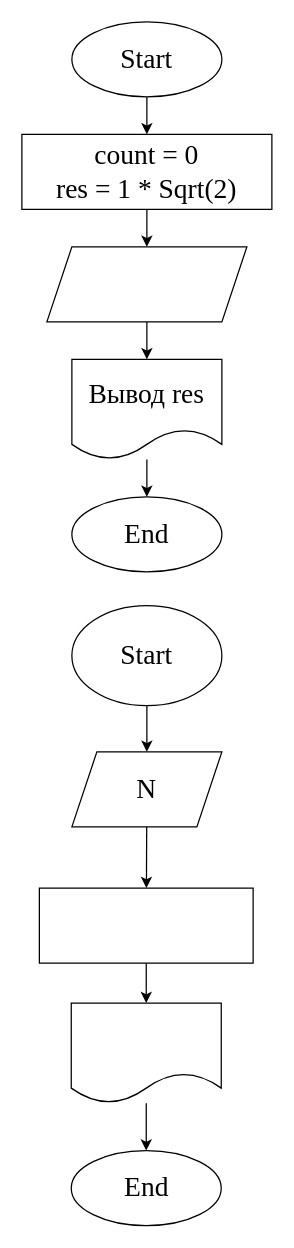
This 294x1248 diagram has some shape labels left out. Each missing label, with the centre of its shape:
print r: point (145, 1052)
r r = random(1,N): point (145, 925)
ввод count: point (146, 284)
